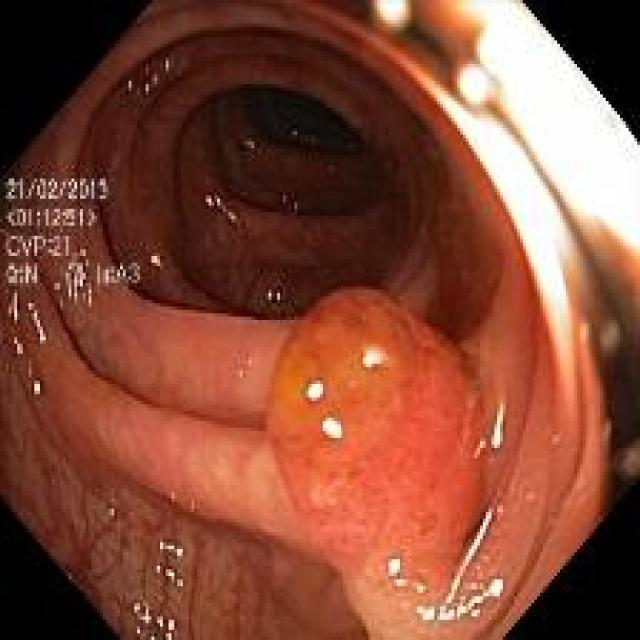Polyps: (269, 289, 484, 638)
